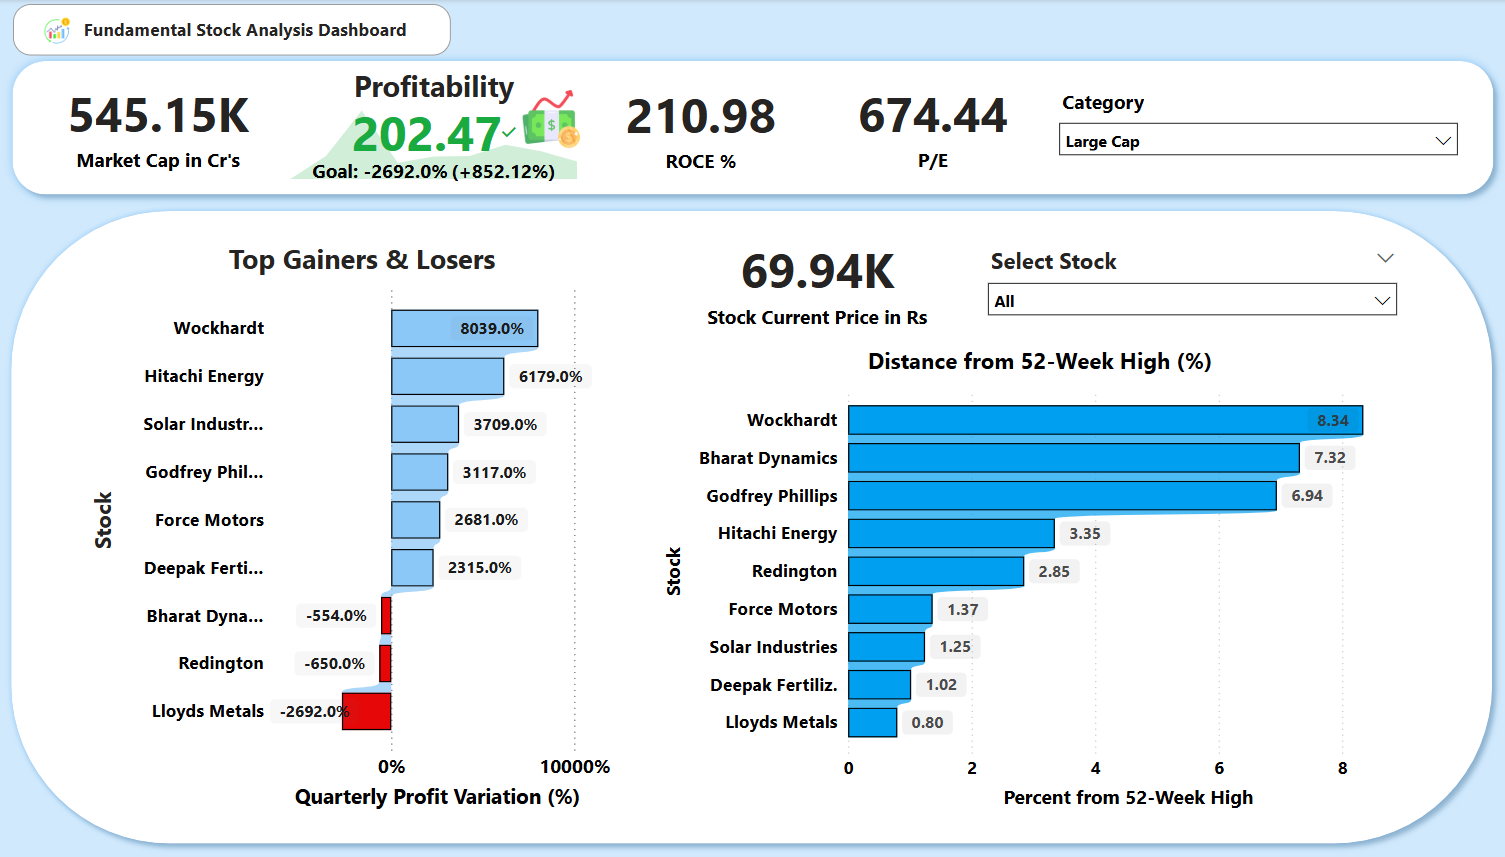

This screenshot's page, from the dashboard's own definition file:
{"tool":"powerbi","page":{"name":"Market Overview & Screener","canvas":[1280,720],"ordinal":0},"visuals":[{"type":"shape","box":[10,168.6,1260,548.6],"z":1000},{"type":"shape","box":[11.8,43,1260,130],"z":2000},{"type":"kpi","title":"Profitability ","fields":{"Indicator":["Sum(Stock Data.NP Qtr Rs.Cr.)"],"TrendLine":["Stock Data.ROCE %"],"Goal":["Sum(Stock Data.Qtr Profit Var %)"]},"box":[248,56.3,251,99.7],"z":3000},{"type":"barChart","title":"Top Gainers & Losers","fields":{"Category":["Stock Data.Name"],"Y":["Sum(Stock Data.Qtr Profit Var %)"]},"box":[82.7,201,461.8,483.2],"z":4000},{"type":"card","fields":{"Values":["Sum(Stock Data.Mar Cap Rs.Cr.)"]},"box":[37.9,56.3,210.1,99.7],"z":5000},{"type":"card","fields":{"Values":["Sum(Stock Data.ROCE %)"]},"box":[498.9,57.5,198.1,99.7],"z":6000},{"type":"card","fields":{"Values":["Sum(Stock Data.P/E)"]},"box":[697.1,56.3,190.9,99.7],"z":7000},{"type":"card","fields":{"Values":["Sum(Stock Data.CMP Rs.)"]},"box":[563.2,185.8,265.4,104.5],"z":8000},{"type":"slicer","fields":{"Values":["Stock Data.CapCategory"]},"box":[887.5,70.3,354.9,74.7],"z":10000},{"type":"slicer","fields":{"Values":["Stock Data.Name"]},"box":[828.5,201.4,363.8,73.2],"z":11000},{"type":"barChart","title":"Distance from 52-Week High (%)","fields":{"Y":["Sum(Stock Data.PercentFromHigh)"],"Category":["Stock Data.Name"]},"box":[563.2,290.2,638.8,393.8],"z":12000},{"type":"textbox","box":[20.9,4.7,367.4,43],"z":13000},{"type":"image","box":[437.7,70.1,70.1,60.9],"z":14000},{"type":"image","box":[38.4,10.5,38.4,32.6],"z":14001}]}

Visuals, with their boxes in screenshot pixels (x1, y1, x2, y2), scaled from the page's 1280x720 canvas onto the 1505x857 screenshot:
shape: detection(12, 201, 1493, 854)
shape: detection(14, 51, 1495, 206)
"Profitability " kpi: detection(292, 67, 587, 186)
"Top Gainers & Losers" barChart: detection(97, 239, 640, 814)
card - Sum(Stock Data.Mar Cap Rs.Cr.): detection(45, 67, 292, 186)
card - Sum(Stock Data.ROCE %): detection(587, 68, 820, 187)
card - Sum(Stock Data.P/E): detection(820, 67, 1044, 186)
card - Sum(Stock Data.CMP Rs.): detection(662, 221, 974, 346)
slicer - Stock Data.CapCategory: detection(1044, 84, 1461, 173)
slicer - Stock Data.Name: detection(974, 240, 1402, 327)
"Distance from 52-Week High (%)" barChart: detection(662, 345, 1413, 814)
textbox: detection(25, 6, 457, 57)
image: detection(515, 83, 597, 156)
image: detection(45, 12, 90, 51)
